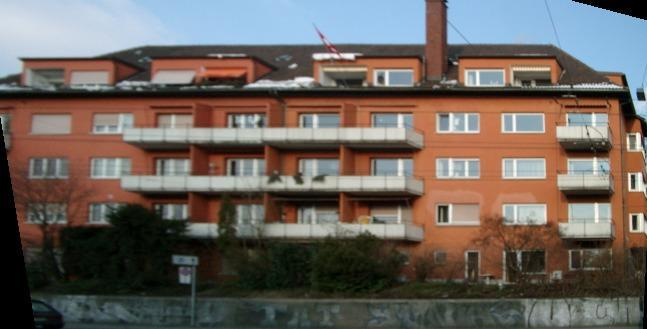window: (500, 112, 548, 135), (503, 204, 551, 227), (320, 66, 368, 89), (569, 249, 616, 272), (434, 204, 481, 227), (436, 112, 482, 135), (500, 158, 547, 180), (436, 158, 483, 180), (31, 113, 74, 136), (92, 113, 135, 136), (367, 205, 417, 224), (90, 157, 133, 179), (29, 158, 71, 180), (88, 203, 130, 225), (26, 202, 68, 224), (567, 204, 612, 224), (295, 203, 340, 223), (297, 158, 340, 177), (371, 158, 414, 177), (224, 204, 266, 223), (465, 69, 506, 88), (374, 69, 415, 88), (372, 112, 413, 131), (511, 67, 552, 86), (225, 158, 267, 176), (567, 159, 611, 176), (565, 111, 608, 128), (227, 112, 270, 128), (71, 71, 111, 88), (523, 249, 548, 276), (155, 204, 190, 223), (208, 68, 247, 85), (156, 159, 192, 177), (26, 70, 64, 87), (158, 69, 196, 86), (300, 114, 340, 129), (155, 114, 194, 128), (629, 173, 643, 194), (628, 133, 641, 153), (630, 214, 643, 234)
